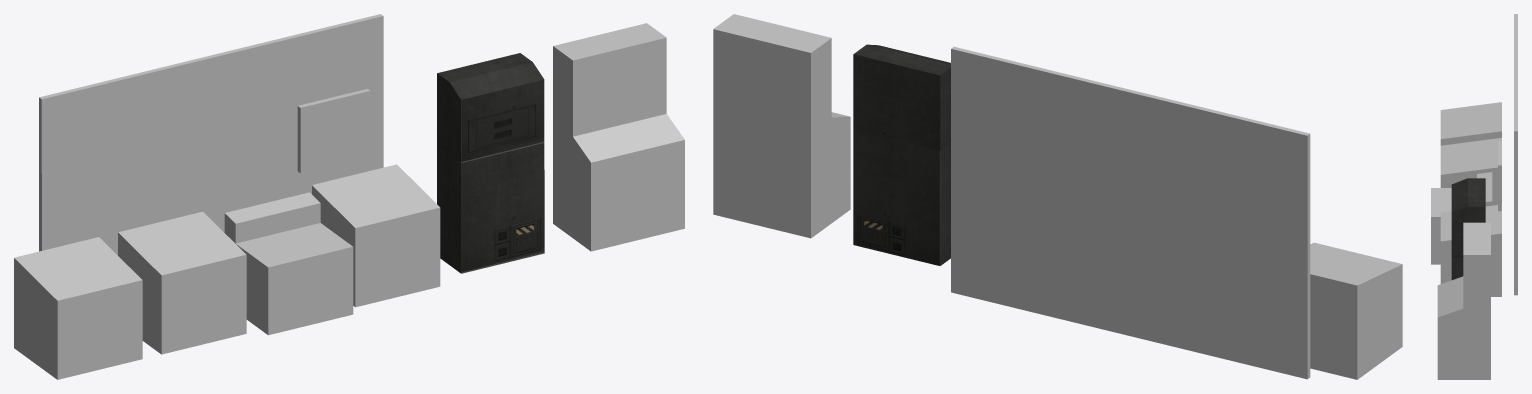
The model's file is AllServers.fbx.
3 renders of one model, left to right at view 1: azimuth 30°, elevation 25°; view 2: azimuth 150°, elevation 25°; view 3: azimuth 270°, elevation 25°, orthographic. The views are drawn at different scales.
Visible parts, largest first — view 1: Wall, Server1, Server2, Server3.001, Server3.005, Server3.004, Server3.006, TV; view 2: Wall, Server1, Server2, Server3.001; view 3: Server1, Server3.005, Server3.001, Server2, Server3.006, Server3.004, Wall, TV.
Part boxes in pixels (x1=…): Wall: x1=39, y1=14, x2=383, y2=255; Server1: x1=553, y1=23, x2=684, y2=251; Server2: x1=437, y1=53, x2=544, y2=273; Server3.001: x1=14, y1=237, x2=142, y2=379; Server3.005: x1=118, y1=211, x2=246, y2=354; Server3.004: x1=224, y1=192, x2=353, y2=335; Server3.006: x1=312, y1=164, x2=440, y2=307; TV: x1=297, y1=89, x2=370, y2=173; Wall: x1=951, y1=46, x2=1310, y2=379; Server1: x1=713, y1=14, x2=850, y2=238; Server2: x1=853, y1=44, x2=950, y2=265; Server3.001: x1=1310, y1=242, x2=1402, y2=379; Server1: x1=1437, y1=222, x2=1490, y2=379; Server3.005: x1=1440, y1=138, x2=1501, y2=205; Server3.001: x1=1440, y1=102, x2=1501, y2=145; Server2: x1=1451, y1=178, x2=1485, y2=279; Server3.006: x1=1440, y1=204, x2=1501, y2=296; Server3.004: x1=1431, y1=172, x2=1492, y2=264; Wall: x1=1514, y1=14, x2=1517, y2=295; TV: x1=1498, y1=141, x2=1501, y2=211.
Size of the model in its own units: 804 by 287 by 138.
